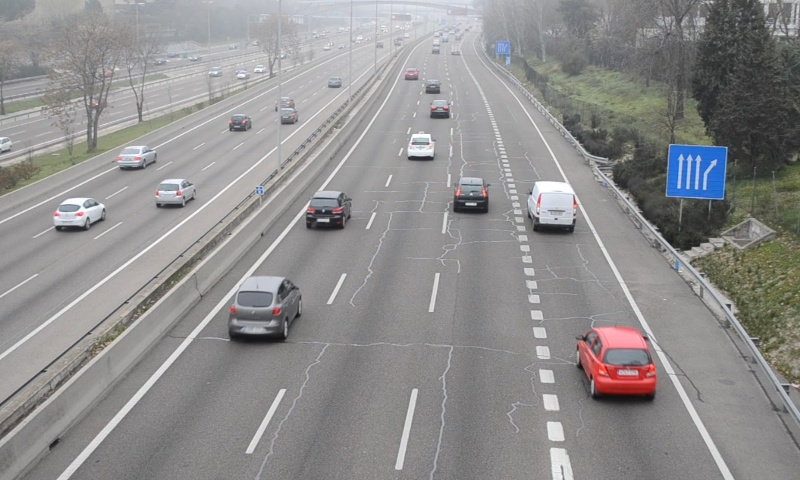car: (577, 326, 658, 395), (228, 276, 302, 337), (306, 190, 352, 228), (453, 176, 488, 214), (406, 132, 434, 158), (429, 98, 451, 118), (426, 80, 441, 94)
van: (528, 181, 576, 231)
